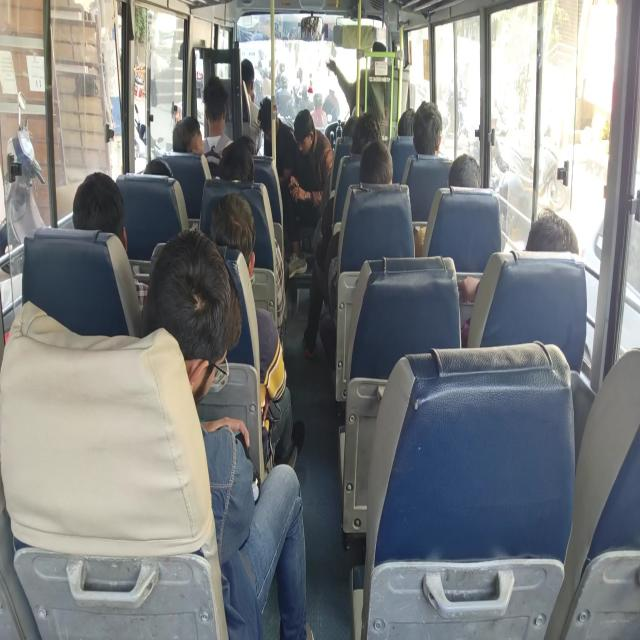person: (61, 160, 173, 244), (151, 236, 218, 340), (514, 198, 580, 276), (203, 194, 269, 268), (198, 82, 230, 137), (349, 109, 379, 165), (170, 116, 205, 163), (451, 152, 479, 208), (368, 147, 398, 198), (414, 106, 439, 160), (217, 147, 250, 186), (237, 47, 263, 95), (142, 148, 170, 190), (290, 106, 314, 148), (260, 102, 280, 137), (390, 108, 416, 132), (238, 127, 255, 161), (340, 115, 362, 127)
